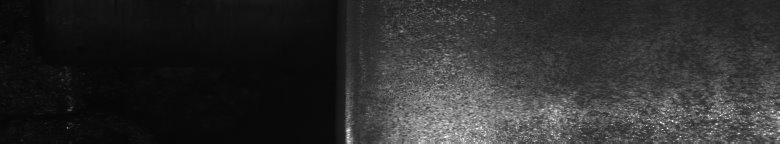kb: (380, 4, 776, 136)
